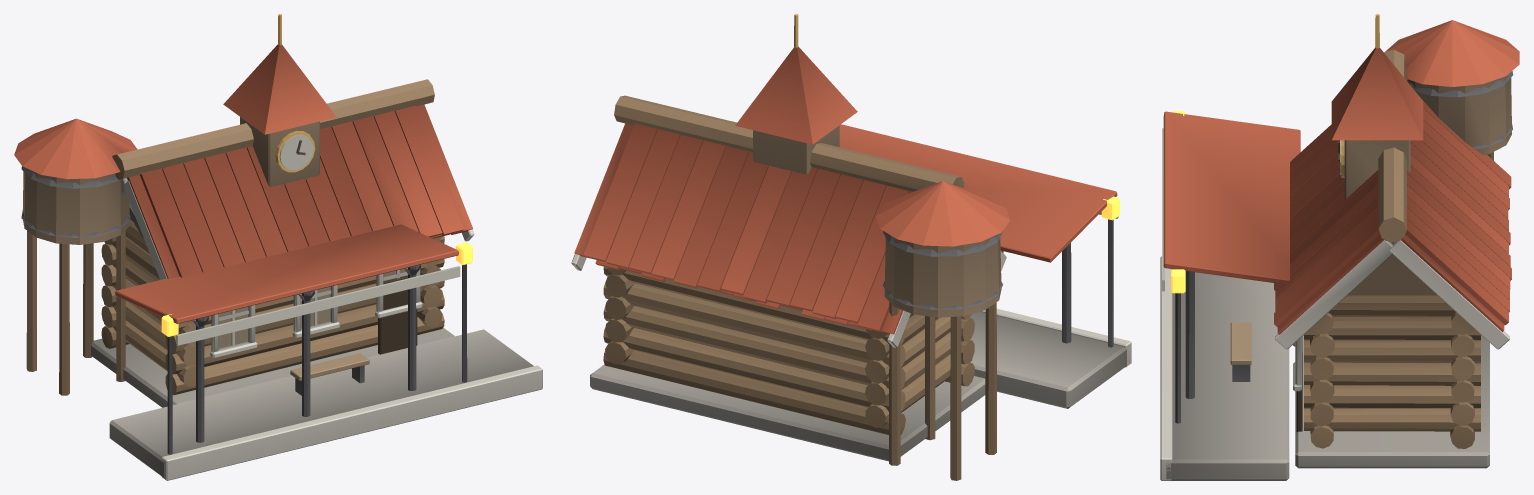
The model's file is bld_station.glb.
3 renders of one model, left to right at view 1: azimuth 30°, elevation 25°; view 2: azimuth 150°, elevation 25°; view 3: azimuth 270°, elevation 25°, orthographic. The views are drawn at different scales.
Parts seen in each view (by area): view 1: station; view 2: station; view 3: station.
Boxes of the visible parts, <box> form: station: <box>14,14,542,480</box>; station: <box>571,14,1131,480</box>; station: <box>1160,14,1519,480</box>.
Size of the model in its own units: 1.65 by 1.39 by 1.2.
